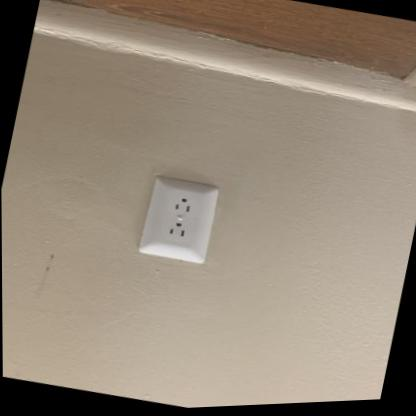OUTLET: (135, 170, 222, 269)
